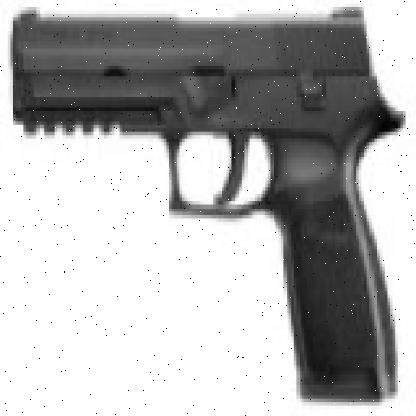pistol: (16, 10, 403, 405)
